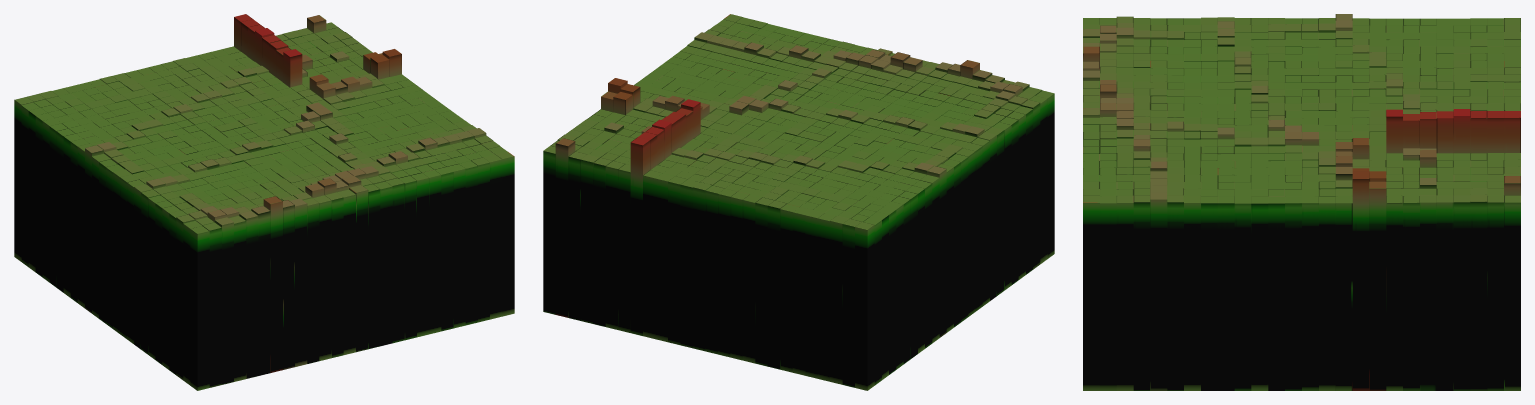
3 renders of one model, left to right at view 1: azimuth 30°, elevation 25°; view 2: azimuth 150°, elevation 25°; view 3: azimuth 270°, elevation 25°, orthographic. The views are drawn at different scales.
Parts seen in each view (by area): view 1: Cube.678; view 2: Cube.678; view 3: Cube.678.
Boxes of the visible parts, box(x1,y1,x2,y2) form: Cube.678: box(14, 14, 514, 390); Cube.678: box(543, 14, 1054, 390); Cube.678: box(1083, 14, 1520, 390).
Size of the model in its own units: 52 by 29.48 by 52.
3 materials, 2 textured.
